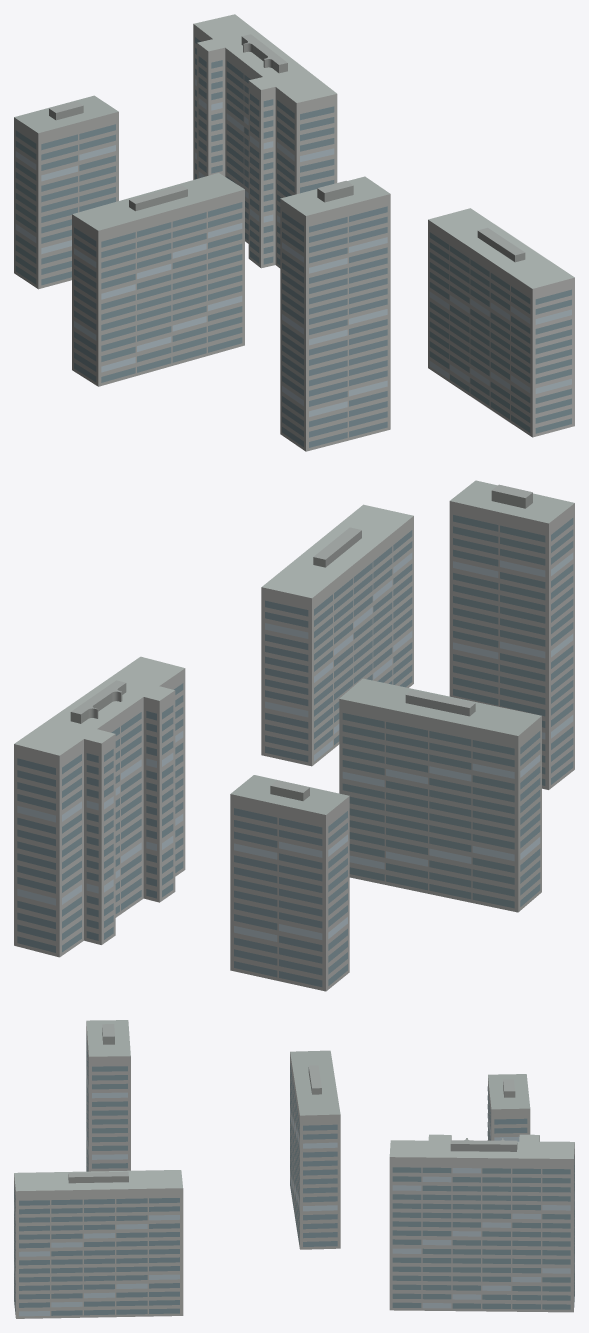
File: apt-a10026279.glb
3 renders of one model, top to bottom at view 1: azimuth 30°, elevation 25°; view 2: azimuth 150°, elevation 25°; view 3: azimuth 270°, elevation 25°, orthographic. The views are drawn at different scales.
Visible parts, largest first — view 1: apt-a10026279; view 2: apt-a10026279; view 3: apt-a10026279.
Part boxes in pixels (x1,y1,x2,y2): apt-a10026279: [14, 14, 574, 451]; apt-a10026279: [14, 480, 574, 991]; apt-a10026279: [14, 1020, 574, 1318].
Size of the model in its own units: 86.09 by 63 by 152.
